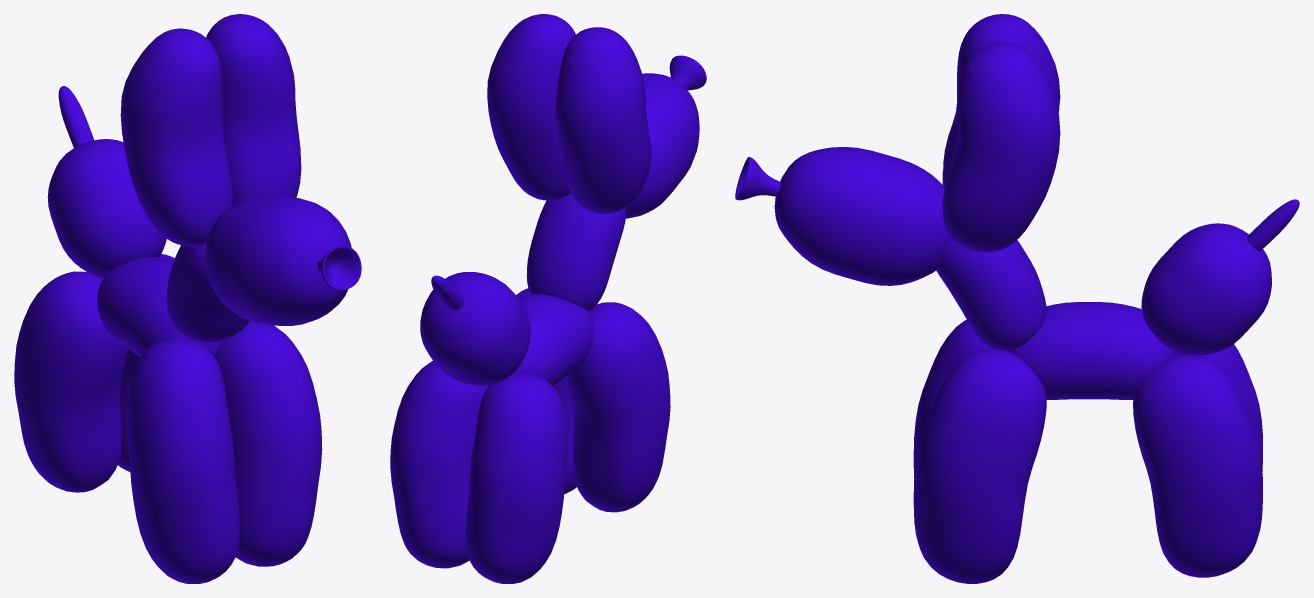
The model's file is poddleballoon_V1.glb.
3 renders of one model, left to right at view 1: azimuth 30°, elevation 25°; view 2: azimuth 150°, elevation 25°; view 3: azimuth 270°, elevation 25°, orthographic. The views are drawn at different scales.
Visible parts, largest first — view 1: Plane.001; view 2: Plane.001; view 3: Plane.001.
Part boxes in pixels (box(x1,y1,x2,y2)): Plane.001: box(14, 14, 361, 583); Plane.001: box(390, 14, 706, 583); Plane.001: box(735, 14, 1299, 583).
Bounding box in the file's own units: 2.88 × 8.49 × 8.18.
